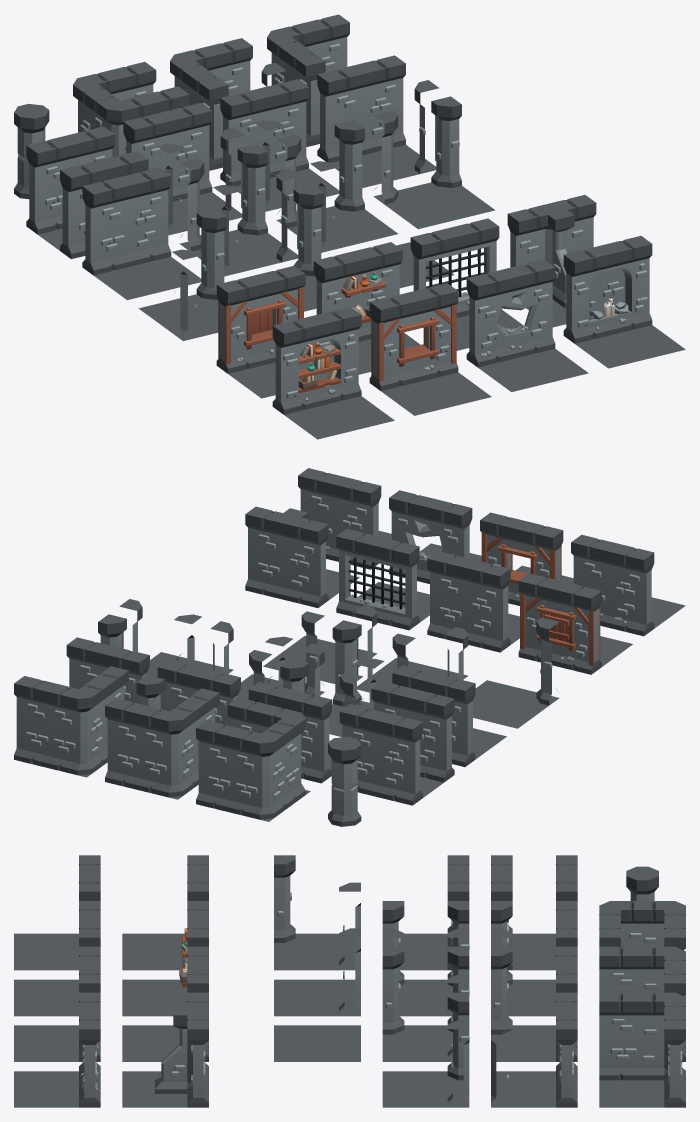
Rendered from kaykit_dungeon_8bit.glb.
3 renders of one model, top to bottom at view 1: azimuth 30°, elevation 25°; view 2: azimuth 150°, elevation 25°; view 3: azimuth 270°, elevation 25°, orthographic. The views are drawn at different scales.
Parts seen in each view (by area): view 1: tile_31-v5-w1, tile_31-v8-w1, tile_31-w10, tile_31-v6-w1, tile_31-v7-w1, tile_29, tile_17, tile_31-v1-w1, tile_21, tile_23, tile_85, tile_95 (+11 smaller); view 2: tile_1, tile_17, tile_5, tile_7, tile_31-v4-w1, tile_31-v2-w1, tile_31-v1-w1, tile_31-v5-w1, tile_31-v3-w1, tile_21, tile_31-v8-w1, tile_31-v6-w1 (+11 smaller); view 3: tile_7, tile_31-v4-w1, tile_29, tile_87, tile_119, tile_95, tile_31-v8-w1, tile_23, tile_5, tile_1, tile_85, tile_17 (+11 smaller).
Part boxes in pixels (<box>): tile_31-v5-w1: <box>272,306,394,439</box>; tile_31-v8-w1: <box>563,236,685,368</box>; tile_31-w10: <box>82,167,201,300</box>; tile_31-v6-w1: <box>369,283,491,415</box>; tile_31-v7-w1: <box>466,259,588,391</box>; tile_29: <box>317,55,439,187</box>; tile_17: <box>26,126,148,259</box>; tile_31-v1-w1: <box>216,265,305,398</box>; tile_21: <box>123,103,245,235</box>; tile_23: <box>220,79,339,211</box>; tile_85: <box>179,143,301,276</box>; tile_95: <box>373,96,494,229</box>; tile_1: <box>196,697,310,821</box>; tile_17: <box>339,681,454,805</box>; tile_5: <box>105,675,219,799</box>; tile_7: <box>14,666,128,777</box>; tile_31-v4-w1: <box>245,506,359,607</box>; tile_31-v2-w1: <box>427,551,519,652</box>; tile_31-v1-w1: <box>518,573,632,674</box>; tile_31-v5-w1: <box>571,534,685,636</box>; tile_31-v3-w1: <box>336,529,429,630</box>; tile_21: <box>248,659,363,783</box>; tile_31-v8-w1: <box>298,468,391,569</box>; tile_31-v6-w1: <box>480,512,573,605</box>; tile_7: <box>599,992,685,1107</box>; tile_31-v4-w1: <box>122,992,208,1107</box>; tile_29: <box>491,992,577,1107</box>; tile_87: <box>382,946,469,1061</box>; tile_119: <box>274,855,360,970</box>; tile_95: <box>382,992,469,1107</box>; tile_31-v8-w1: <box>14,992,100,1107</box>; tile_23: <box>491,946,577,1061</box>; tile_5: <box>599,946,685,1061</box>; tile_1: <box>599,901,685,996</box>; tile_85: <box>382,901,469,1016</box>; tile_17: <box>491,855,577,970</box>.
Bounding box in the file's own units: 19.03 × 4 × 31.
1 material, 1 textured.
